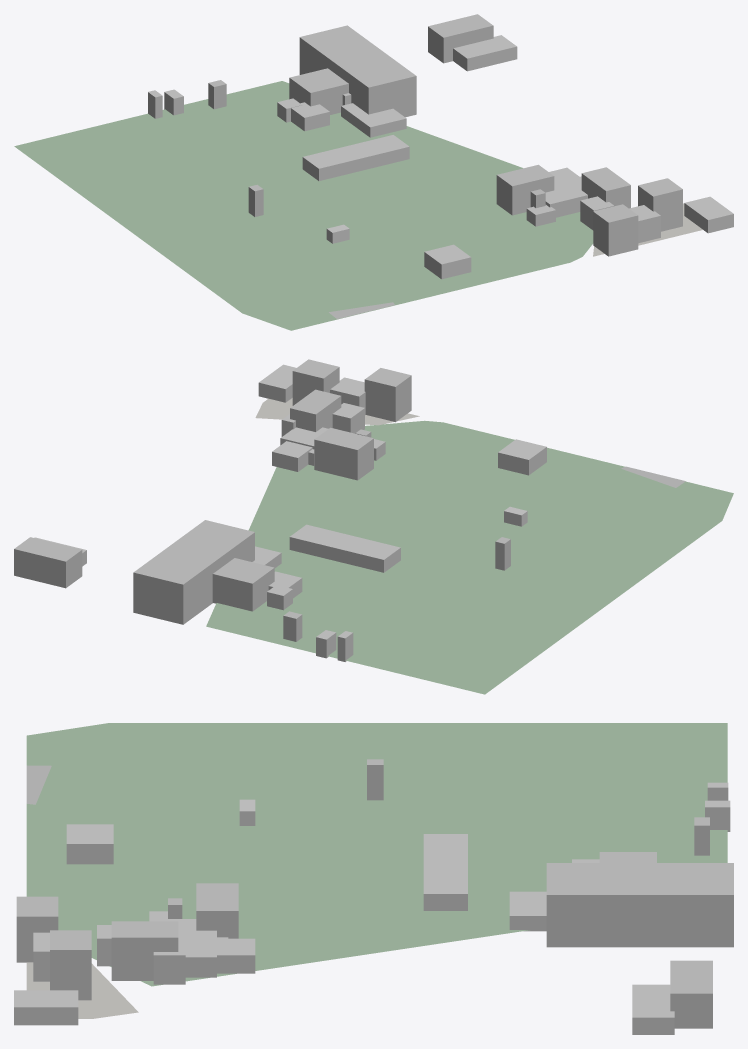
File: 114_84_mid.glb
3 renders of one model, top to bottom at view 1: azimuth 30°, elevation 25°; view 2: azimuth 150°, elevation 25°; view 3: azimuth 270°, elevation 25°, orthographic. The views are drawn at different scales.
Bounding box in the file's own units: 523 × 41.56 × 514.
